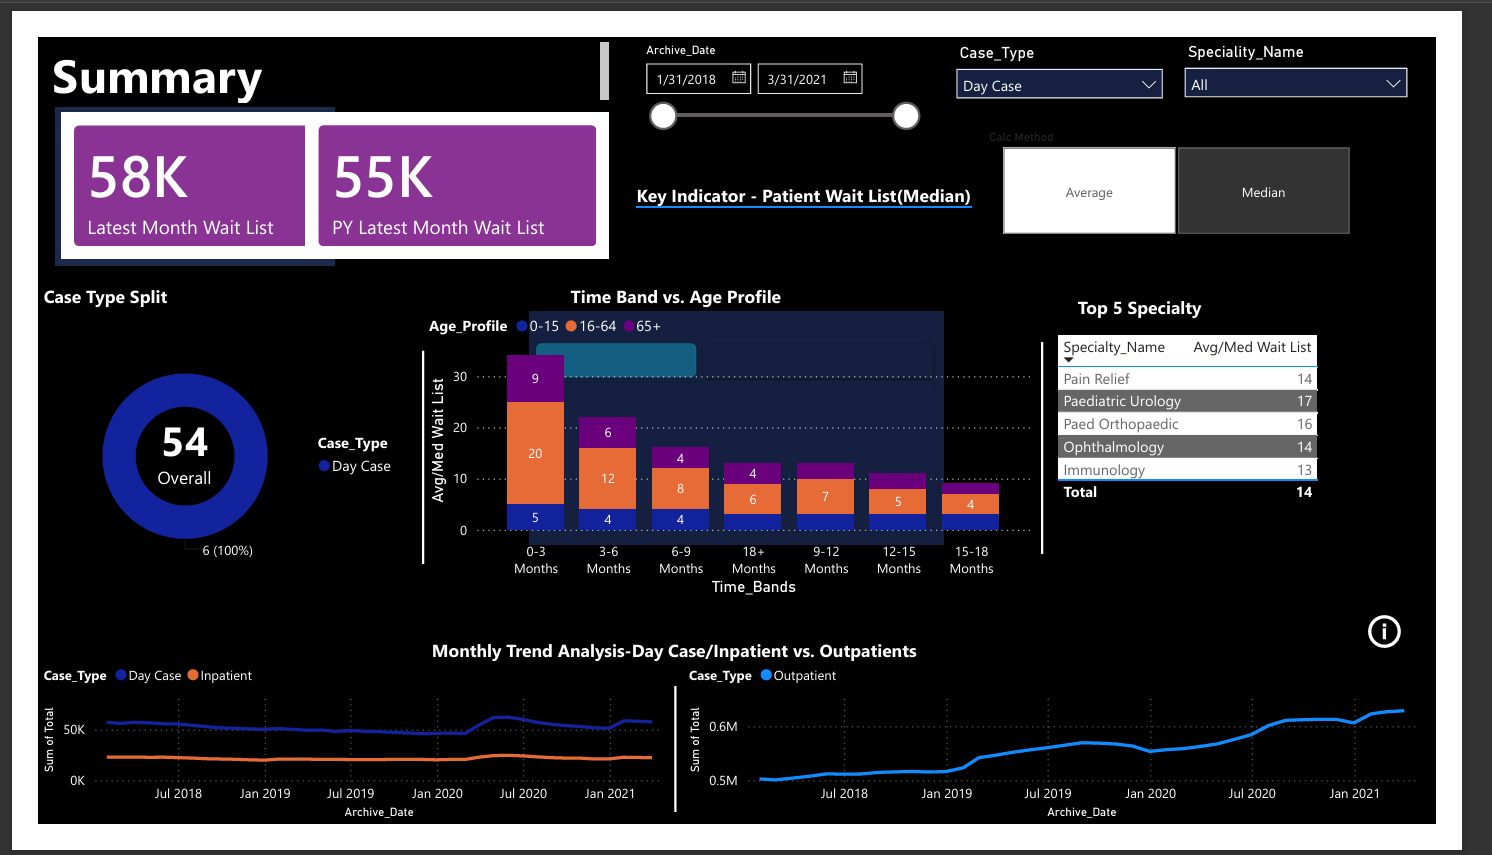

The dashboard page shown, as its layout file describes it:
{"tool":"powerbi","page":{"name":"Summary","canvas":[1280,720],"ordinal":0},"visuals":[{"type":"cardVisual","fields":{"Data":["All_data.Latest Month Wait List"]},"box":[16.5,64.5,255.2,144.1],"z":0},{"type":"cardVisual","fields":{"Data":["All_data.PY Latest Month Wait List"]},"box":[240.1,64.5,288.2,144.1],"z":1000},{"type":"donutChart","fields":{"Category":["All_data.Case_Type"],"Y":["All_data.Avg/Med Wait List"]},"box":[8.2,249.7,336.2,267.6],"z":2000},{"type":"columnChart","fields":{"Y":["All_data.Avg/Med Wait List"],"Category":["All_data.Time_Bands"],"Series":["All_data.Age_Profile"]},"box":[352.7,244.3,559.9,271.7],"z":3000},{"type":"tableEx","fields":{"Values":["All_data.Specialty_Name","All_data.Avg/Med Wait List"]},"box":[927.6,267.6,352.7,267.6],"z":4000},{"type":"lineChart","fields":{"Category":["All_data.Archive_Date"],"Y":["Sum(All_data.Total)"],"Series":["All_data.Case_Type"]},"box":[0,564,591.4,156.4],"z":5000},{"type":"lineChart","fields":{"Category":["All_data.Archive_Date"],"Y":["Sum(All_data.Total)"],"Series":["All_data.Case_Type"]},"box":[591.4,564,688.9,156.4],"z":6000},{"type":"slicer","fields":{"Values":["All_data.Archive_Date"]},"box":[544,0,272,96],"z":7000},{"type":"slicer","fields":{"Values":["All_data.Case_Type"]},"box":[816,0,208,64],"z":8000},{"type":"slicer","fields":{"Values":["All_data.Speciality_Name"]},"box":[1040,0,224,80],"z":9000},{"type":"textbox","box":[8.3,0,520,65],"z":10000},{"type":"textbox","box":[39.8,337.6,188,89.2],"z":11000},{"type":"textbox","box":[16,64,480,64],"z":12000},{"type":"textbox","box":[100.2,544.8,964.7,97.4],"z":13000},{"type":"shape","box":[433.6,594.2,299.1,115.3],"z":14000},{"type":"textbox","box":[240.1,220.9,687.5,46.7],"z":15000},{"type":"shape","box":[769.8,278.6,299.1,194.9],"z":16000},{"type":"shape","box":[203.1,286.8,299.1,194.9],"z":17000},{"type":"textbox","box":[0,220.9,218.2,46.7],"z":18000},{"type":"textbox","box":[946.8,230.5,277.2,37],"z":19000},{"type":"slicer","fields":{"Values":["Calculation Method.Calc Method"]},"box":[857.6,79.6,367.8,107],"z":20000},{"type":"textbox","box":[543.4,129,345.8,45.3],"z":21000},{"type":"actionButton","box":[1213,524.2,60.4,39.8],"z":22000}]}

Visuals, with their boxes in screenshot pixels (x1, y1, x2, y2), scaled from the page's 1280x720 canvas onto the 1492x855 screenshot:
cardVisual - All_data.Latest Month Wait List: 19 77 317 248
cardVisual - All_data.PY Latest Month Wait List: 280 77 616 248
donutChart - All_data.Case_Type x All_data.Avg/Med Wait List: 10 297 401 614
columnChart - All_data.Avg/Med Wait List x All_data.Time_Bands: 411 290 1064 613
tableEx - All_data.Specialty_Name x All_data.Avg/Med Wait List: 1081 318 1491 636
lineChart - All_data.Archive_Date x Sum(All_data.Total): 0 670 689 854
lineChart - All_data.Archive_Date x Sum(All_data.Total): 689 670 1491 854
slicer - All_data.Archive_Date: 634 0 951 114
slicer - All_data.Case_Type: 951 0 1194 76
slicer - All_data.Speciality_Name: 1212 0 1473 95
textbox: 10 0 616 77
textbox: 46 401 266 507
textbox: 19 76 578 152
textbox: 117 647 1241 763
shape: 505 706 854 843
textbox: 280 262 1081 318
shape: 897 331 1246 562
shape: 237 341 585 572
textbox: 0 262 254 318
textbox: 1104 274 1427 318
slicer - Calculation Method.Calc Method: 1000 95 1428 222
textbox: 633 153 1036 207
actionButton: 1414 622 1484 670
